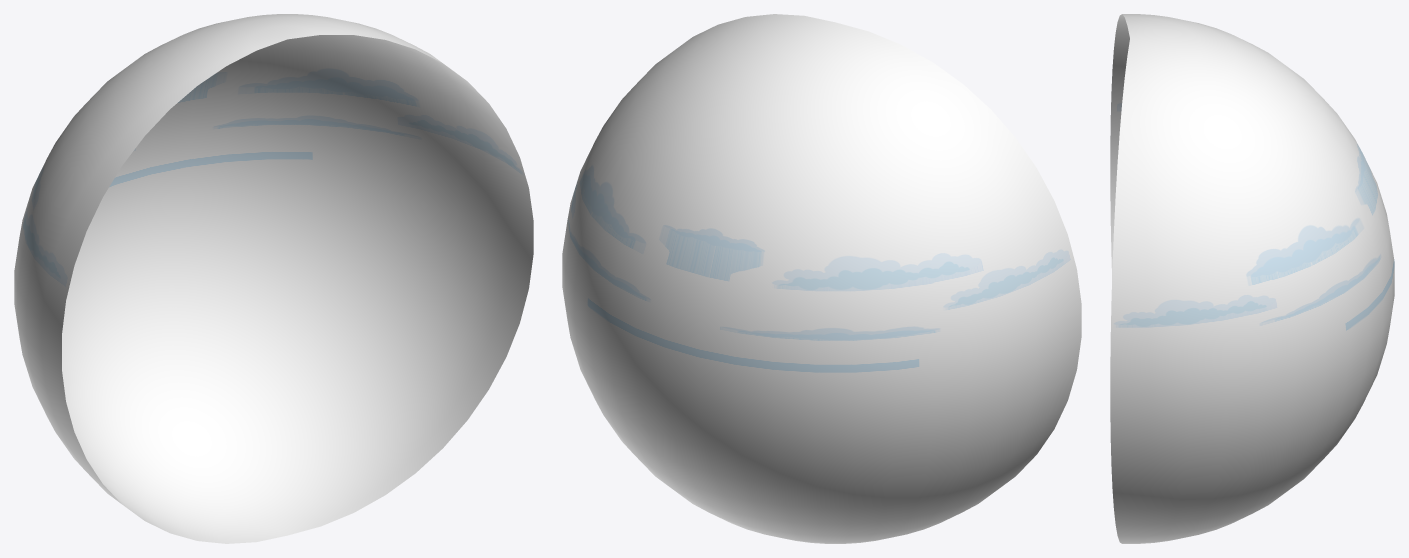
File: sky.fbx
The picture shows the model from 3 angles, left to right: view 1: azimuth 30°, elevation 25°; view 2: azimuth 150°, elevation 25°; view 3: azimuth 270°, elevation 25°; orthographic projection. The views are drawn at different scales.
Visible parts, largest first — view 1: Sphere; view 2: Sphere; view 3: Sphere.
Part boxes in pixels (x1=…): Sphere: x1=14, y1=14, x2=533, y2=543; Sphere: x1=562, y1=14, x2=1081, y2=543; Sphere: x1=1110, y1=14, x2=1394, y2=543.
Bounding box in the file's own units: 199 × 200 × 107.
